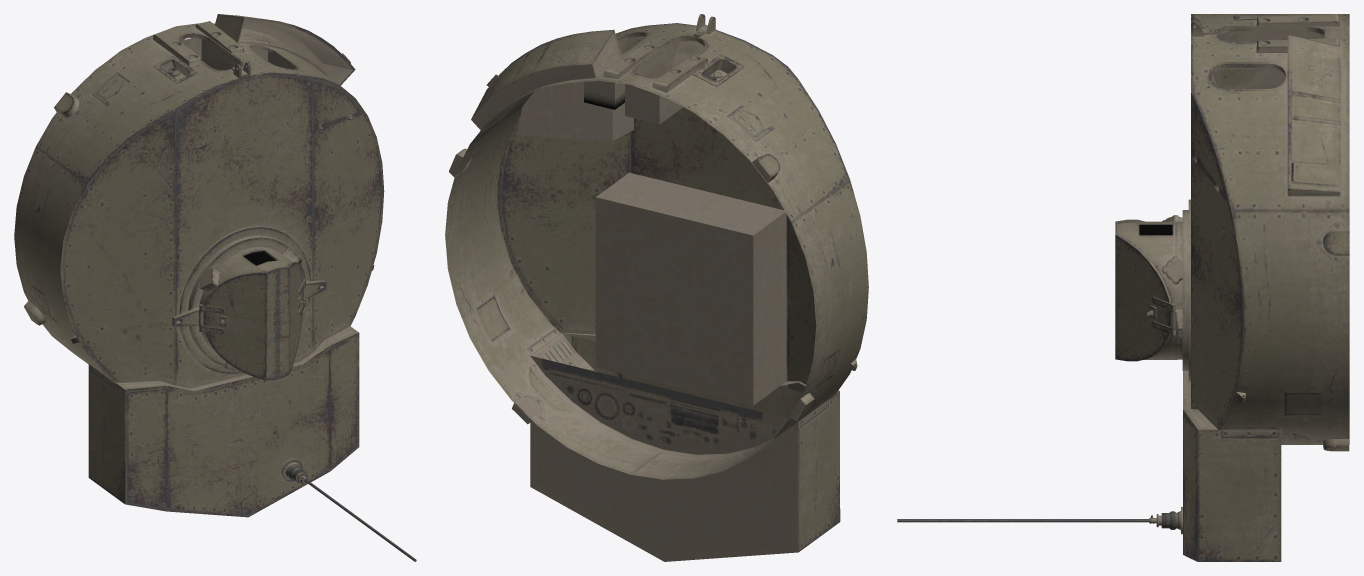
The model's file is Turret_02.glb.
3 renders of one model, left to right at view 1: azimuth 30°, elevation 25°; view 2: azimuth 150°, elevation 25°; view 3: azimuth 270°, elevation 25°, orthographic. The views are drawn at different scales.
Parts seen in each view (by area): view 1: set_0_group_0; view 2: set_0_group_0; view 3: set_0_group_0.
Part boxes in pixels (x1,y1,x2,y2): set_0_group_0: (14,14,416,561); set_0_group_0: (445,14,868,561); set_0_group_0: (897,14,1349,561).
Bounding box in the file's own units: 1.96 × 2.64 × 2.05.
1 material, 1 textured.
